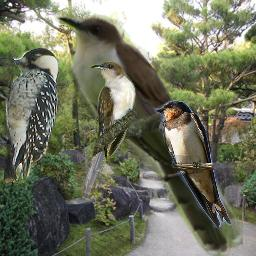Cuckoo: (54, 10, 243, 256), (81, 61, 137, 200)
Swallow: (154, 100, 231, 228)
Woodpecker: (4, 47, 59, 183)
